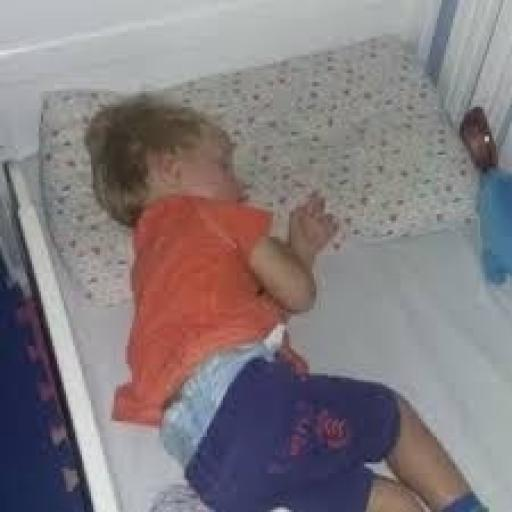sleeping: (80, 91, 505, 510)
